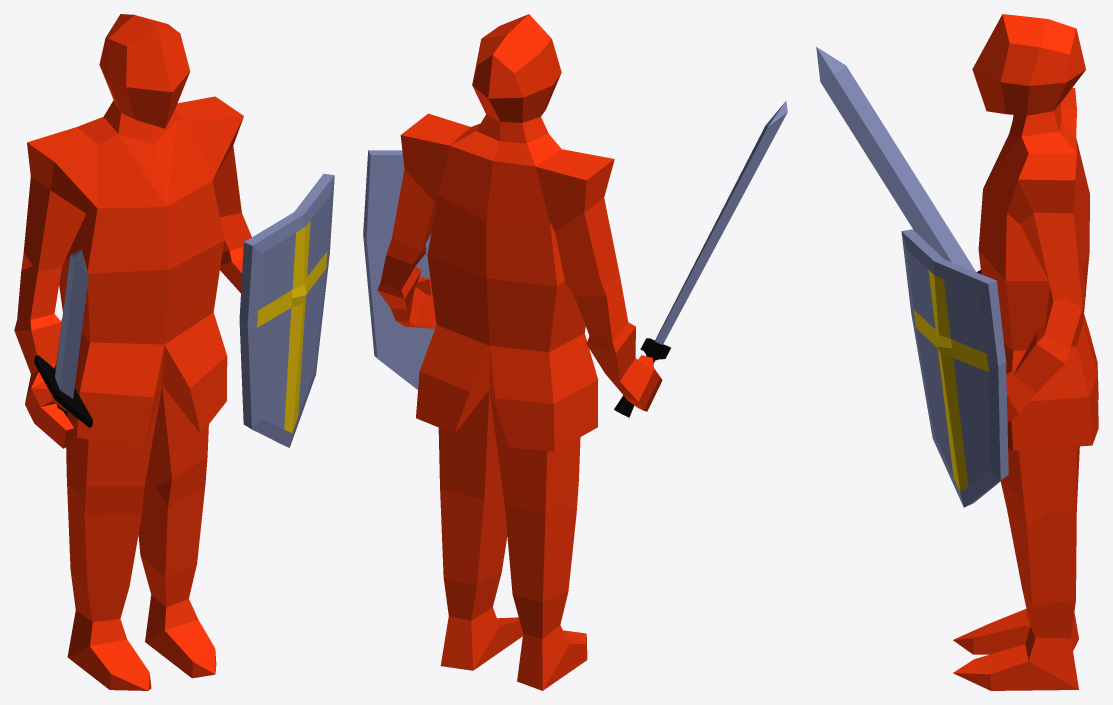
File: soldier3.fbx
3 renders of one model, left to right at view 1: azimuth 30°, elevation 25°; view 2: azimuth 150°, elevation 25°; view 3: azimuth 270°, elevation 25°, orthographic. The views are drawn at different scales.
Visible parts, largest first — view 1: man-knight-soldier; view 2: man-knight-soldier; view 3: man-knight-soldier.
Part boxes in pixels (x1,y1,x2,y2): man-knight-soldier: [14, 14, 334, 690]; man-knight-soldier: [363, 14, 787, 690]; man-knight-soldier: [816, 14, 1098, 690].
Size of the model in its own units: 101 by 183 by 71.91.
